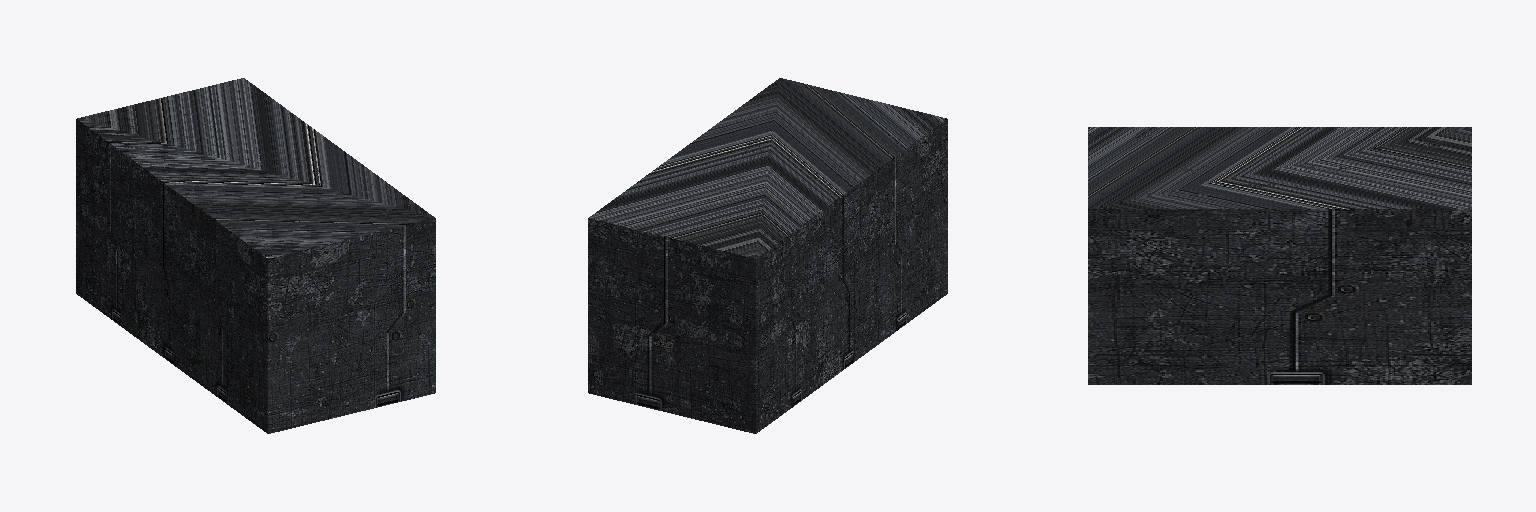
3 views of the same model, side by side, from view 1: azimuth 30°, elevation 25°; view 2: azimuth 150°, elevation 25°; view 3: azimuth 270°, elevation 25° (orthographic).
Visible parts, largest first — view 1: Cube; view 2: Cube; view 3: Cube.
Part boxes in pixels (x1,y1,x2,y2): Cube: (76, 78, 435, 433); Cube: (588, 78, 947, 433); Cube: (1088, 127, 1471, 384).
Size of the model in its own units: 2 by 2 by 3.96.
1 materials, 1 textured.